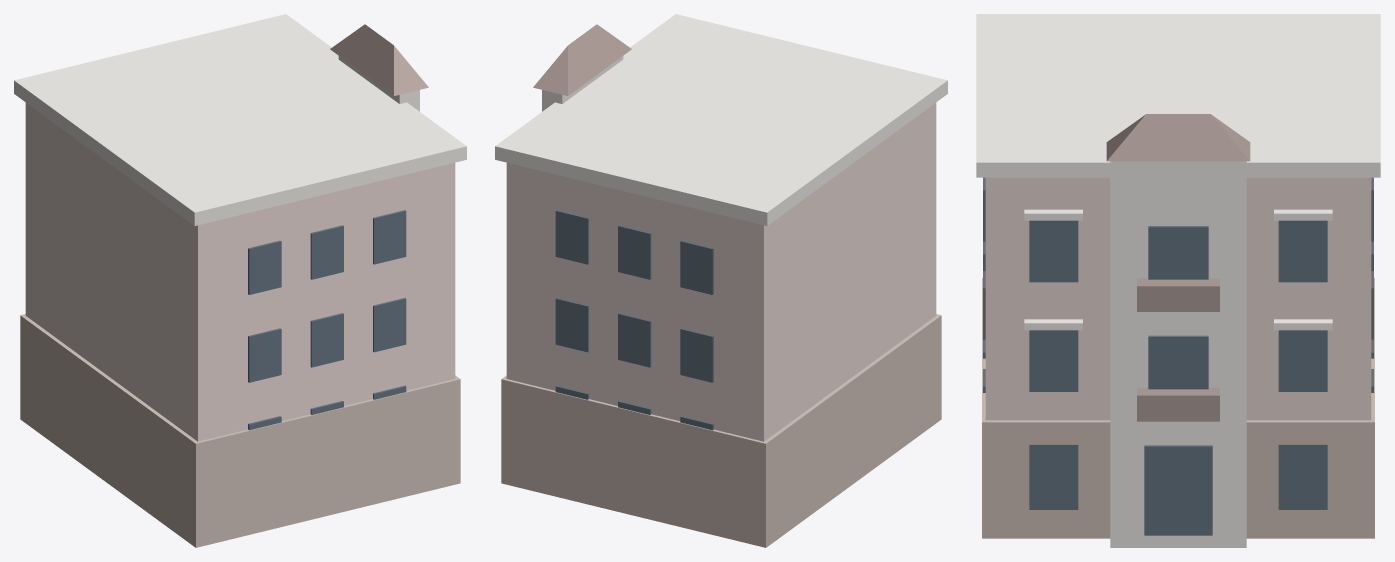
Rendered from rambla_building_2.glb.
The picture shows the model from 3 angles, left to right: view 1: azimuth 30°, elevation 25°; view 2: azimuth 150°, elevation 25°; view 3: azimuth 270°, elevation 25°; orthographic projection. The views are drawn at different scales.
Parts seen in each view (by area): view 1: RamblaBuilding_2; view 2: RamblaBuilding_2; view 3: RamblaBuilding_2.
Part boxes in pixels (x1,y1,x2,y2): RamblaBuilding_2: (14, 14, 466, 547); RamblaBuilding_2: (495, 14, 947, 547); RamblaBuilding_2: (976, 14, 1380, 547).
Size of the model in its own units: 10.25 by 12.5 by 10.7.
